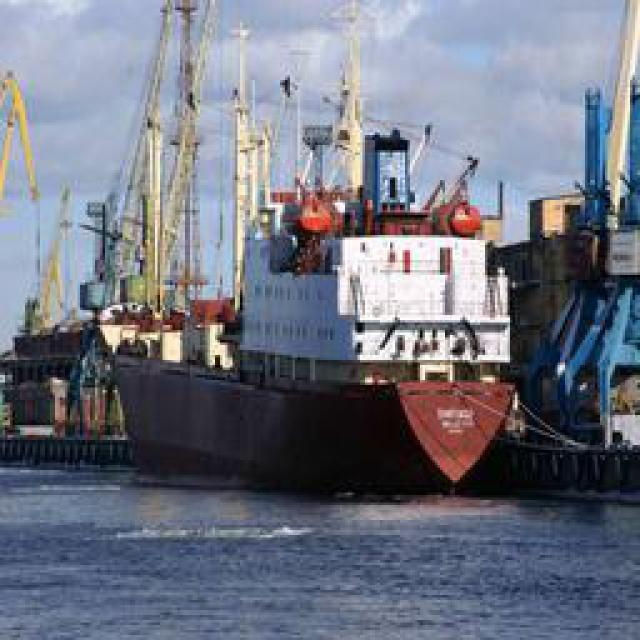Ship: (79, 4, 542, 489)
